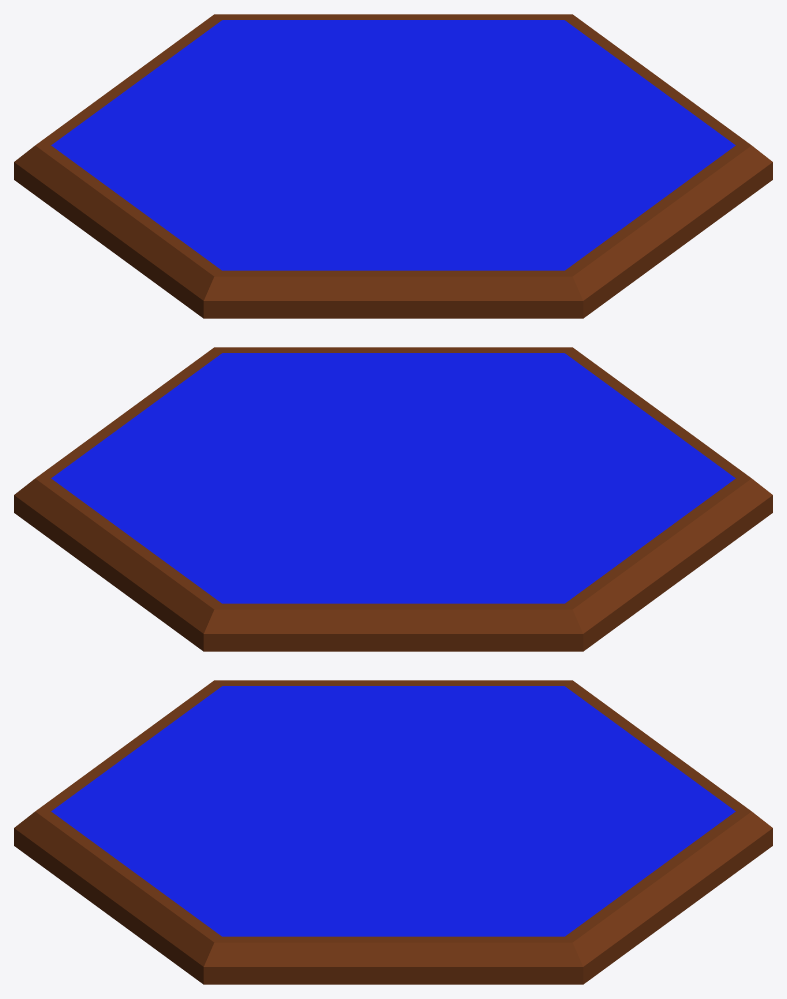
Rendered from water_hex.fbx.
The picture shows the model from 3 angles, top to bottom: view 1: azimuth 30°, elevation 25°; view 2: azimuth 150°, elevation 25°; view 3: azimuth 270°, elevation 25°; orthographic projection.
Visible parts, largest first — view 1: Cylinder; view 2: Cylinder; view 3: Cylinder.
Boxes of the visible parts, bbox=[...] form: Cylinder: bbox=[14, 14, 772, 318]; Cylinder: bbox=[14, 347, 772, 651]; Cylinder: bbox=[14, 680, 772, 984].
Bounding box in the file's own units: 173 × 10 × 200.
